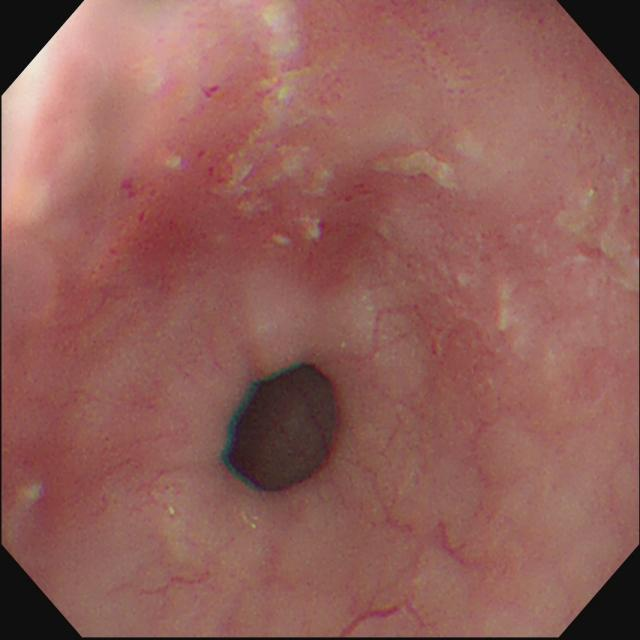A: (270, 210, 390, 305), (105, 176, 178, 263), (196, 150, 225, 185), (332, 181, 372, 204), (201, 81, 221, 101)
E: (229, 366, 339, 495)
J: (216, 2, 328, 210), (556, 167, 640, 300), (372, 150, 461, 193), (271, 212, 322, 250)
